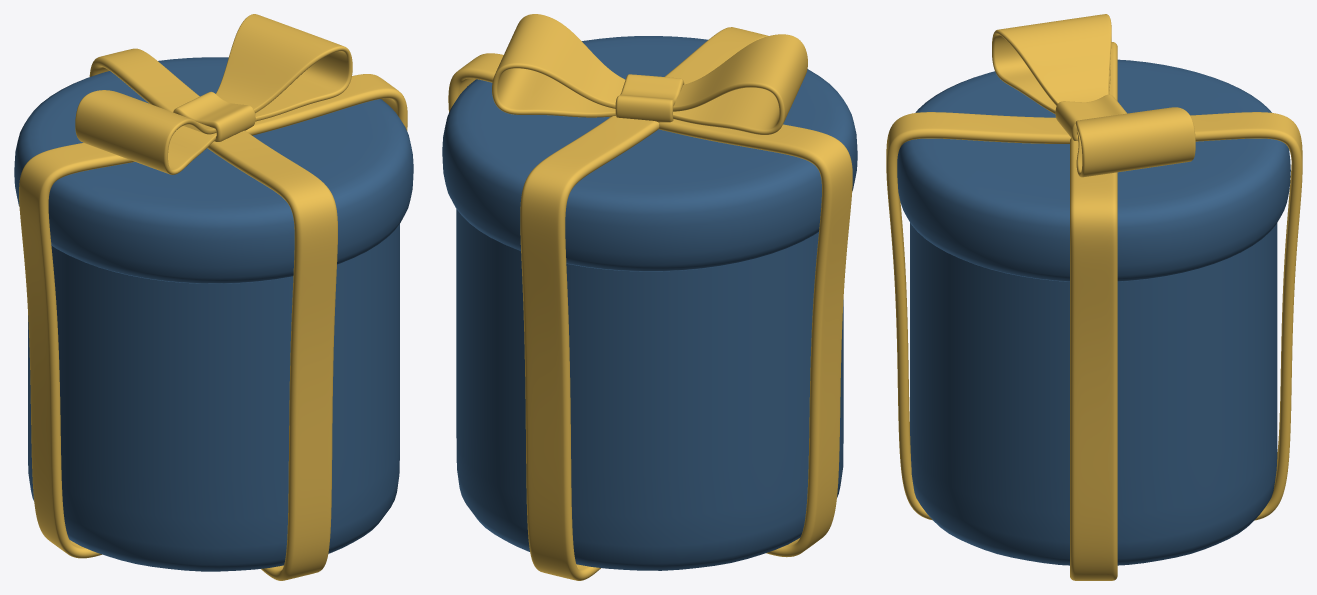
The model's file is Gift04.fbx.
The picture shows the model from 3 angles, left to right: view 1: azimuth 30°, elevation 25°; view 2: azimuth 150°, elevation 25°; view 3: azimuth 270°, elevation 25°; orthographic projection. The views are drawn at different scales.
Parts seen in each view (by area): view 1: Gift 04; view 2: Gift 04; view 3: Gift 04.
Boxes of the visible parts, x1,y1,x2,y2 form: Gift 04: [14, 14, 413, 580]; Gift 04: [442, 14, 857, 580]; Gift 04: [886, 14, 1302, 580].
Bounding box in the file's own units: 223 × 259 × 221.
